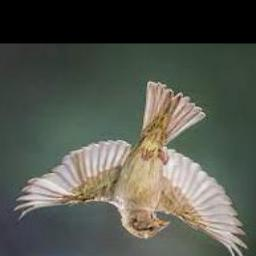Sparrow: (13, 82, 248, 256)
